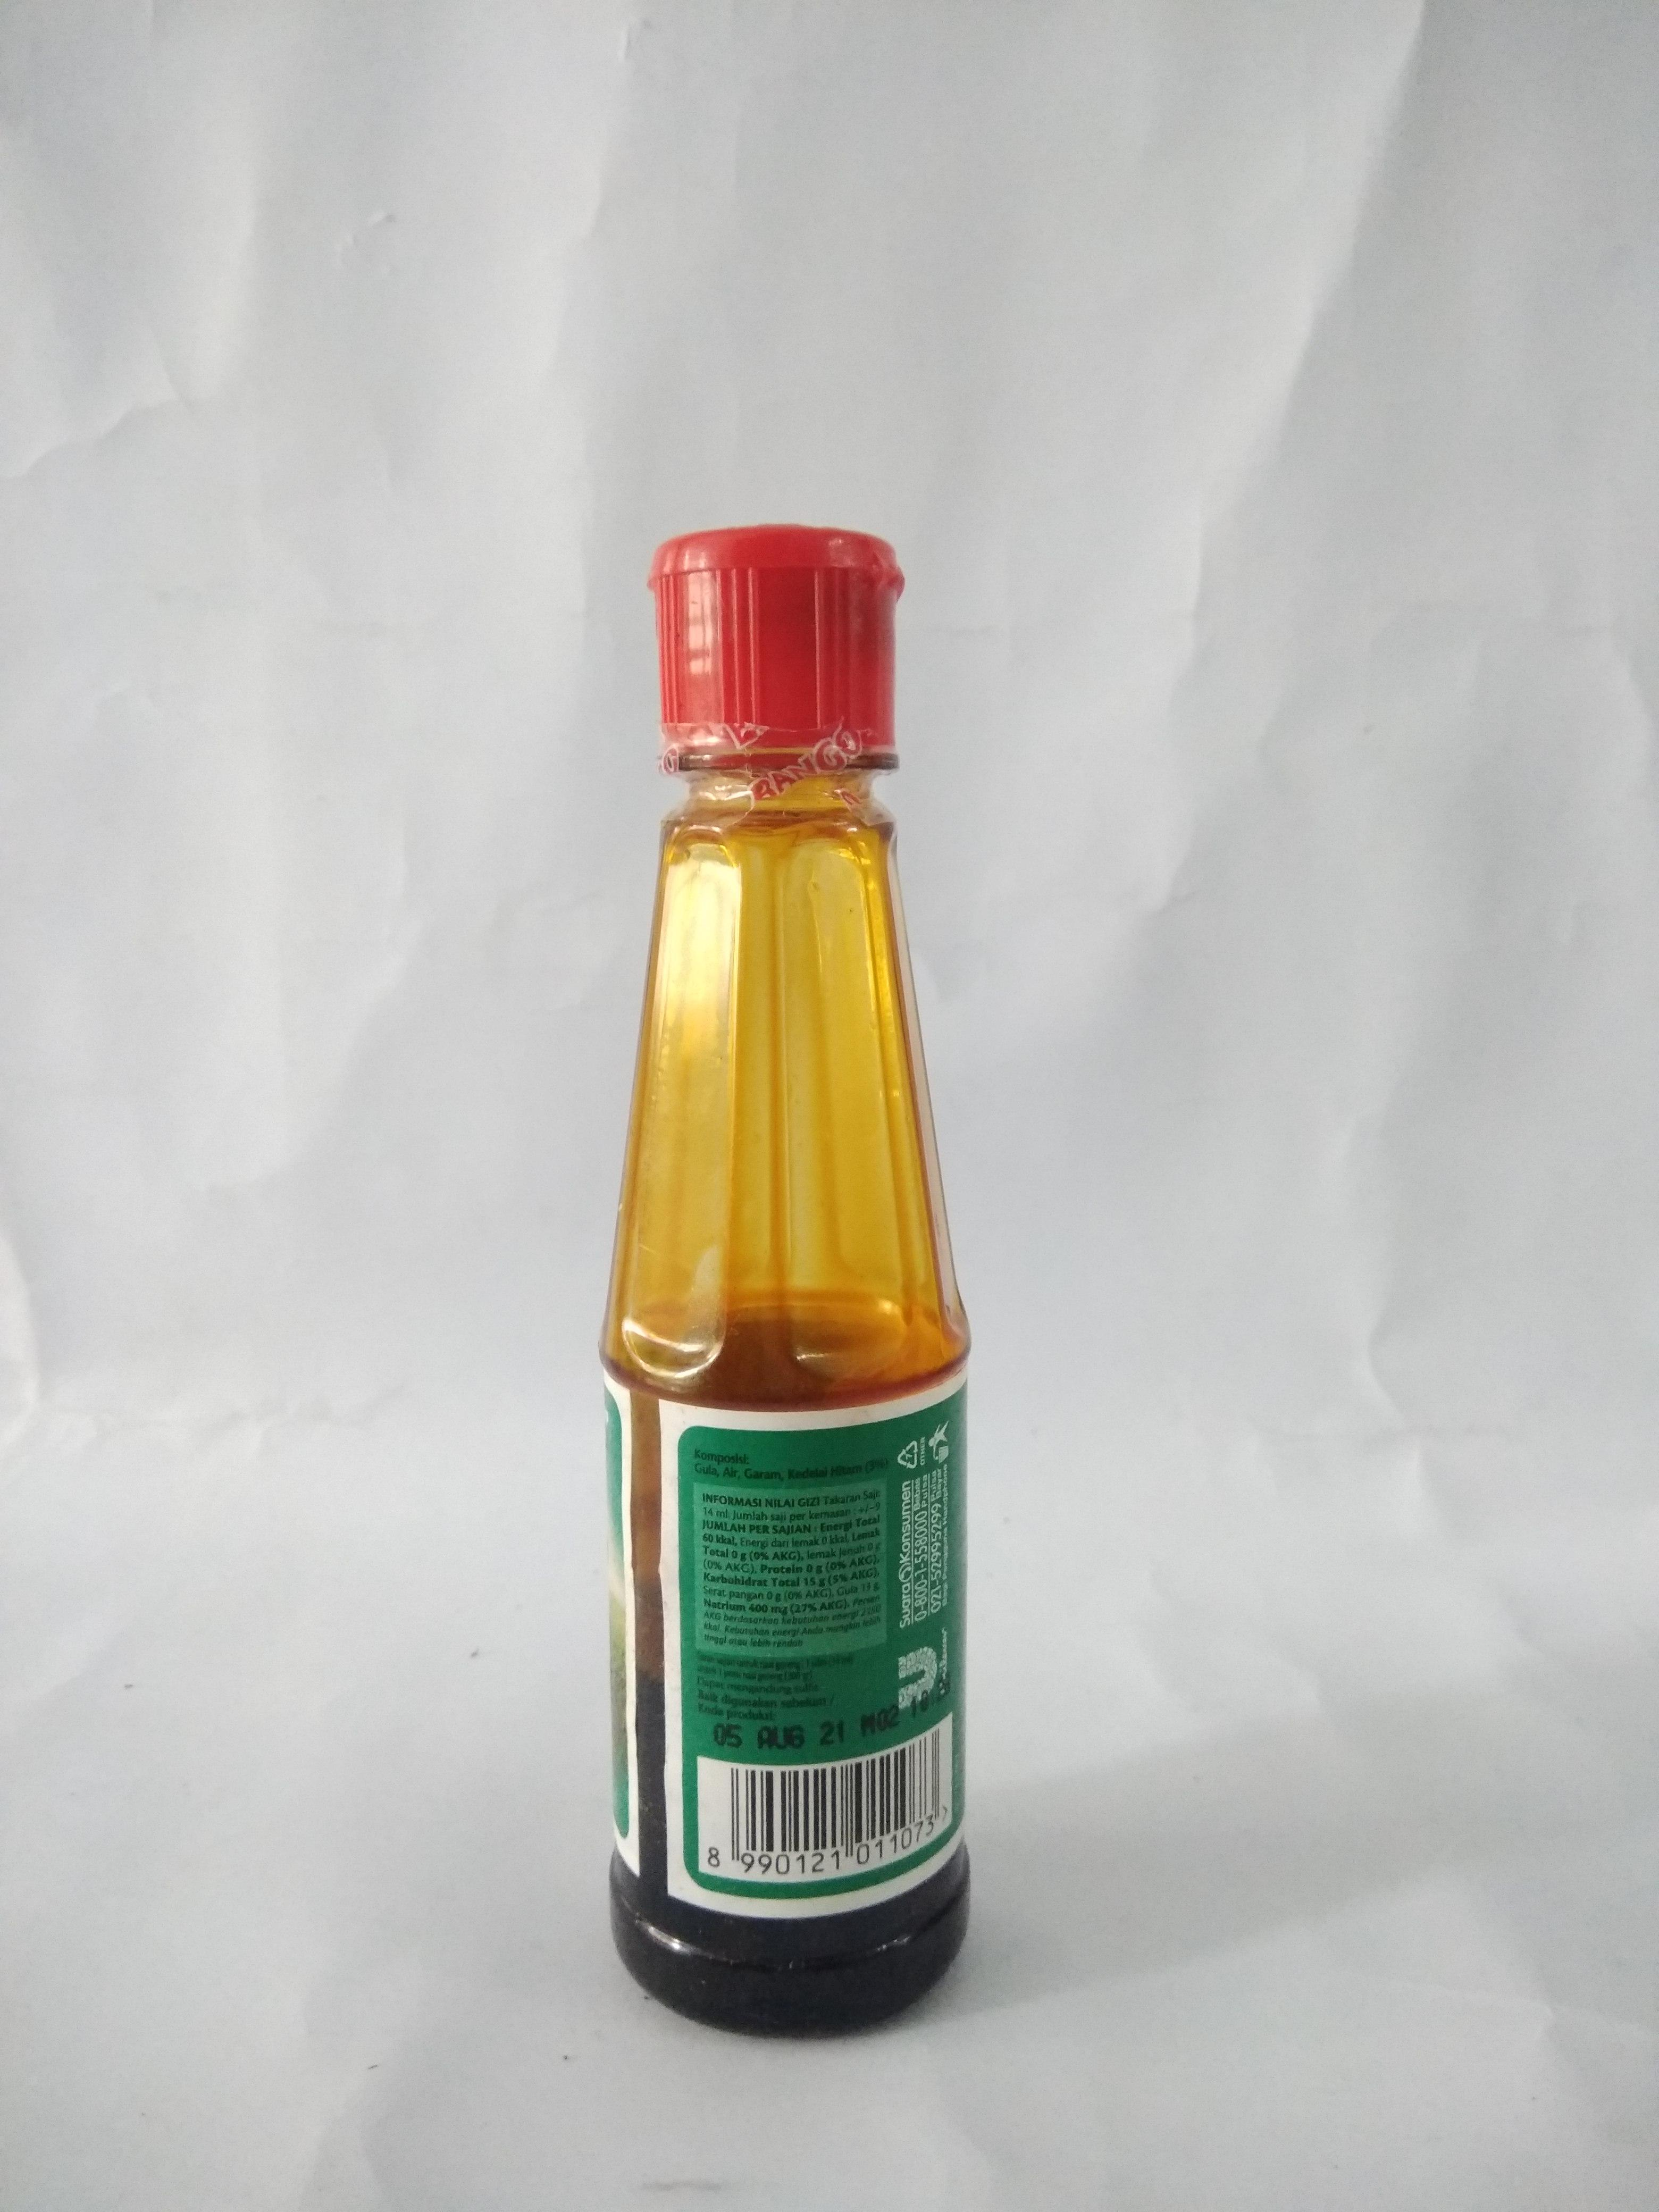HDPE: (587, 442, 979, 775)
PETE: (411, 806, 1168, 2134)
